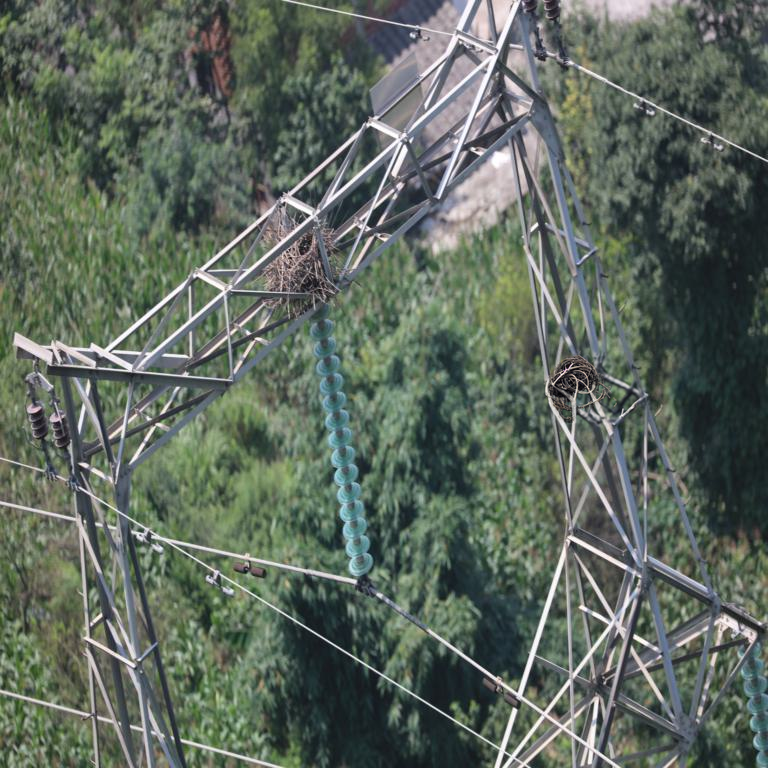nest: (261, 224, 341, 314), (547, 355, 600, 412)
